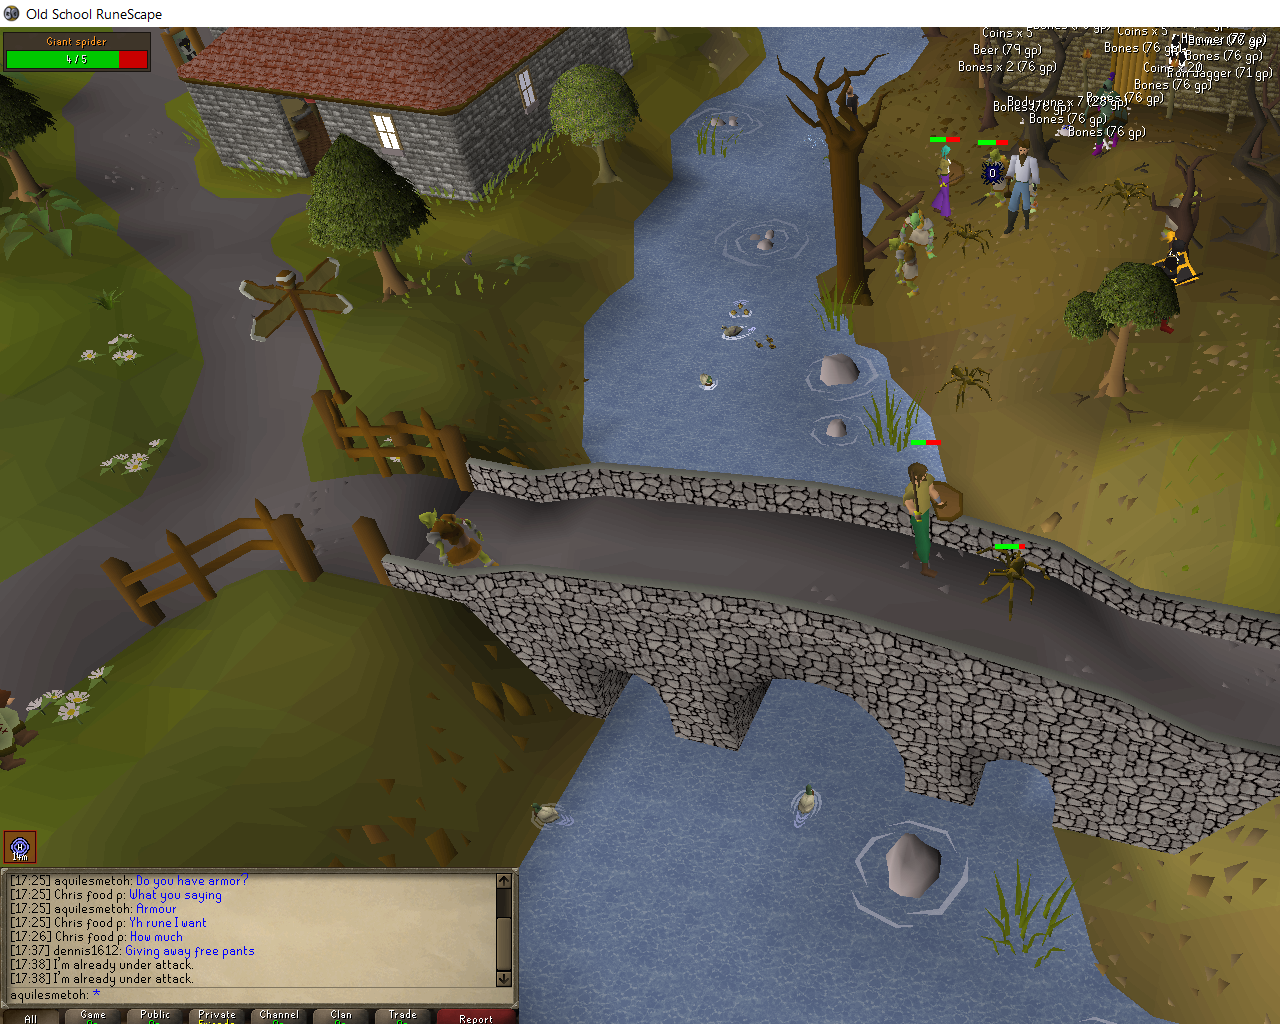Goblin: (415, 506, 499, 572), (887, 234, 927, 300), (897, 209, 941, 260), (983, 148, 1015, 209)
